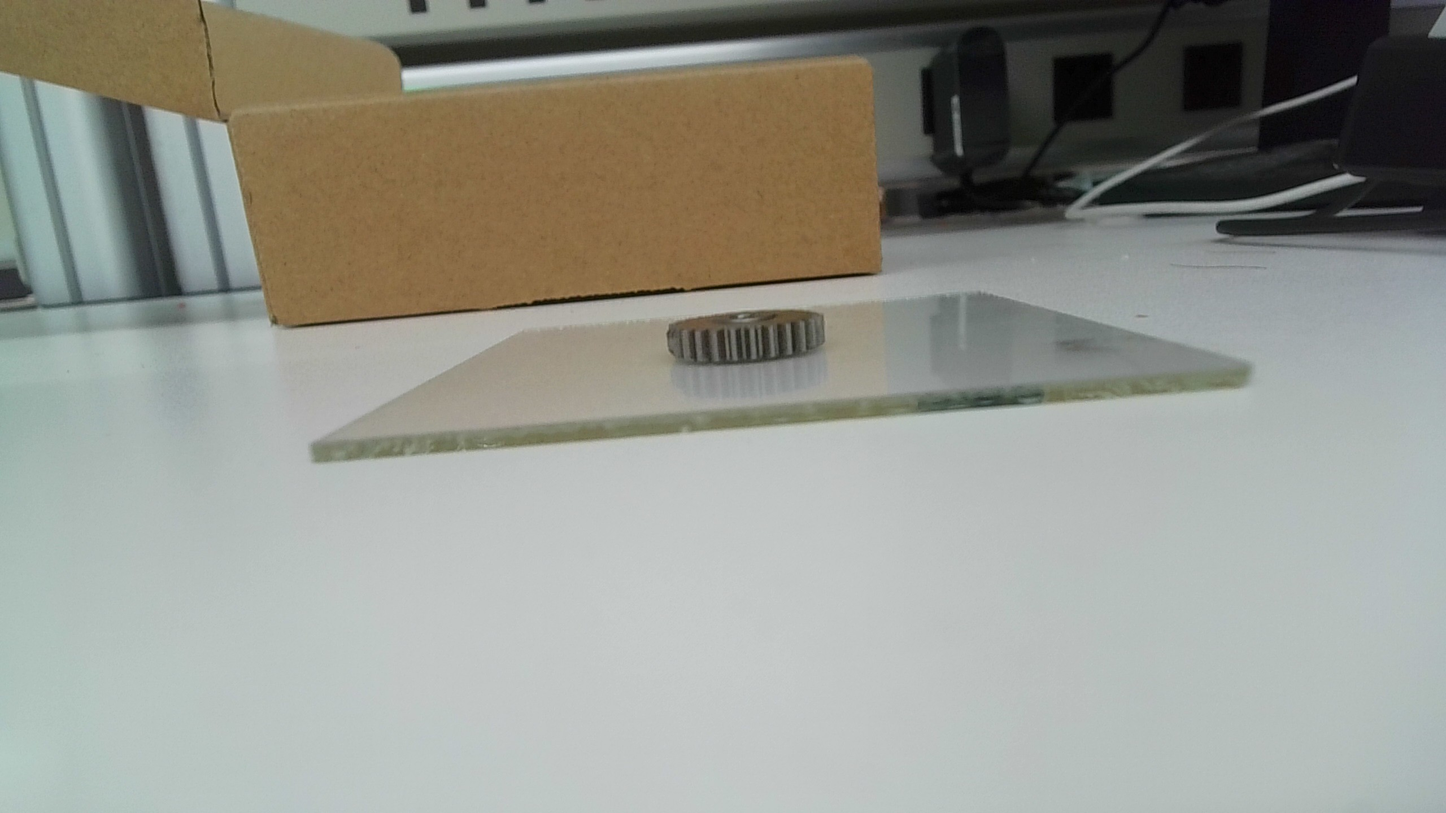gear: (665, 308, 835, 366)
